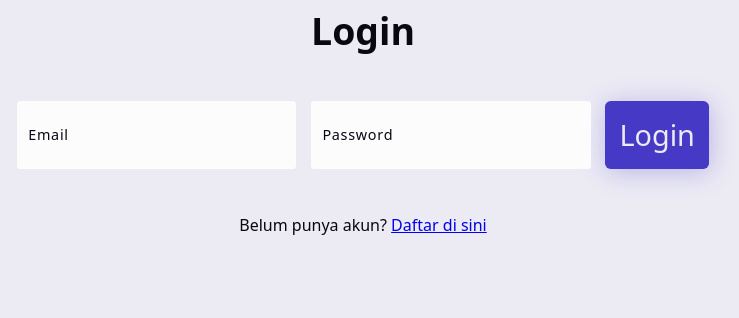
Test: Login Component › shows error message on failed login
In the field with placeholder "Email": point(157, 135) x1=17 y1=101 x2=296 y2=169, type "wrong@gmail.com"
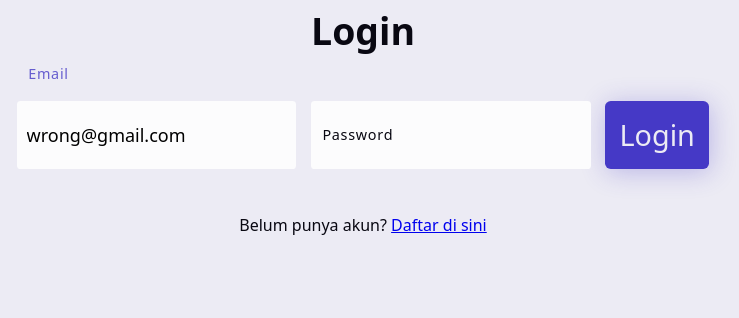
In the password field with placeholder "Password": point(451, 135) x1=311 y1=101 x2=591 y2=169, type "wrongpass"
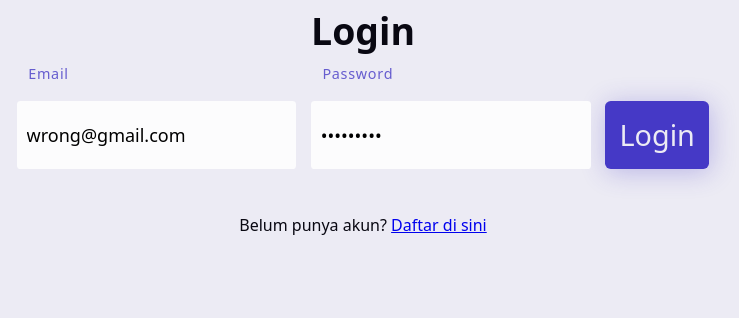
Click the button "Login": point(657, 135) x1=605 y1=101 x2=709 y2=169
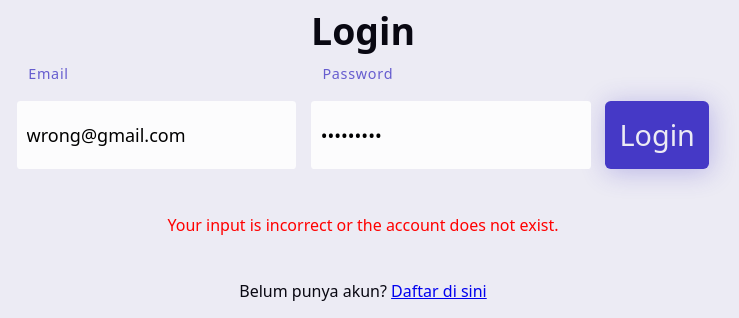
Expected: the text "Your input is incorrect or the account does not exist." is shown, x1=168 y1=214 x2=559 y2=236
